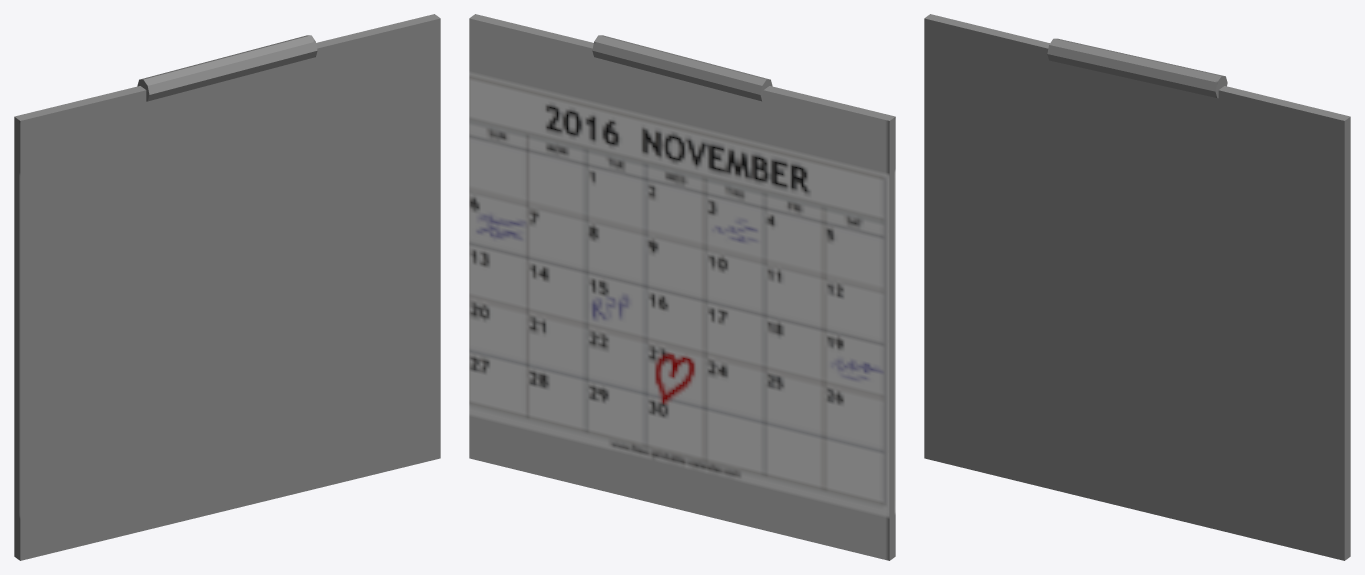
The model's file is Calender01.fbx.
3 renders of one model, left to right at view 1: azimuth 30°, elevation 25°; view 2: azimuth 150°, elevation 25°; view 3: azimuth 330°, elevation 25°, orthographic.
Visible parts, largest first — view 1: polySurface91; view 2: polySurface91; view 3: polySurface91.
Boxes of the visible parts, x1,y1,x2,y2 form: polySurface91: [14, 14, 440, 560]; polySurface91: [469, 14, 895, 560]; polySurface91: [924, 14, 1350, 560].
Bounding box in the file's own units: 40 × 41.07 × 2.
